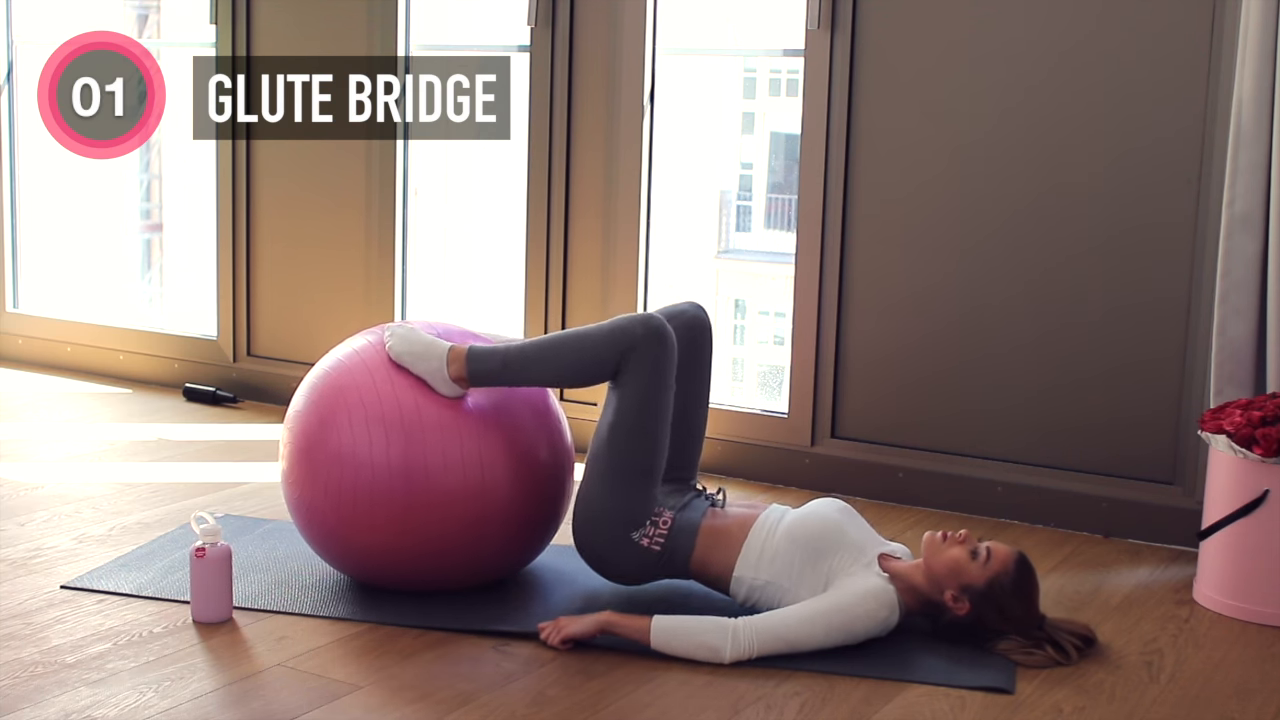yogaball: (278, 314, 579, 604)
